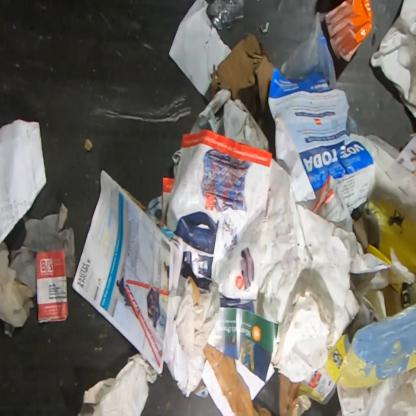cardboard: (324, 300, 415, 390), (351, 197, 416, 316), (209, 32, 274, 131), (203, 342, 273, 415), (279, 374, 314, 415), (188, 276, 201, 307)
rigid_plastic: (324, 0, 373, 62), (206, 0, 244, 30)
